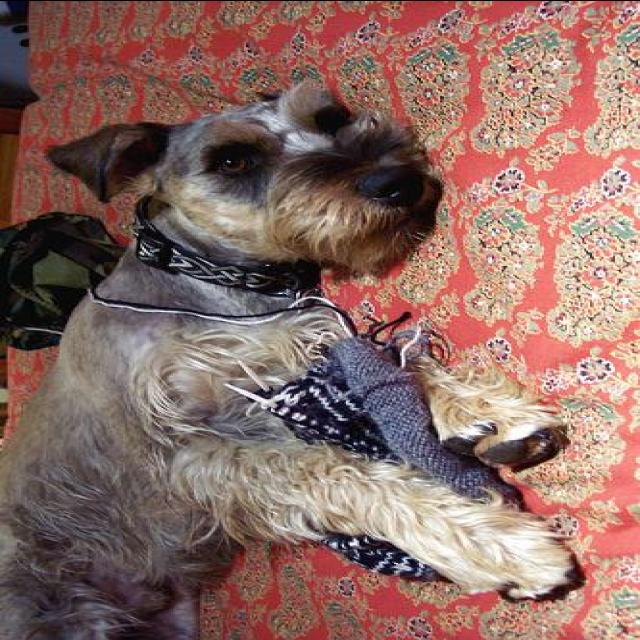standard_schnauzer: (0, 78, 578, 640)
